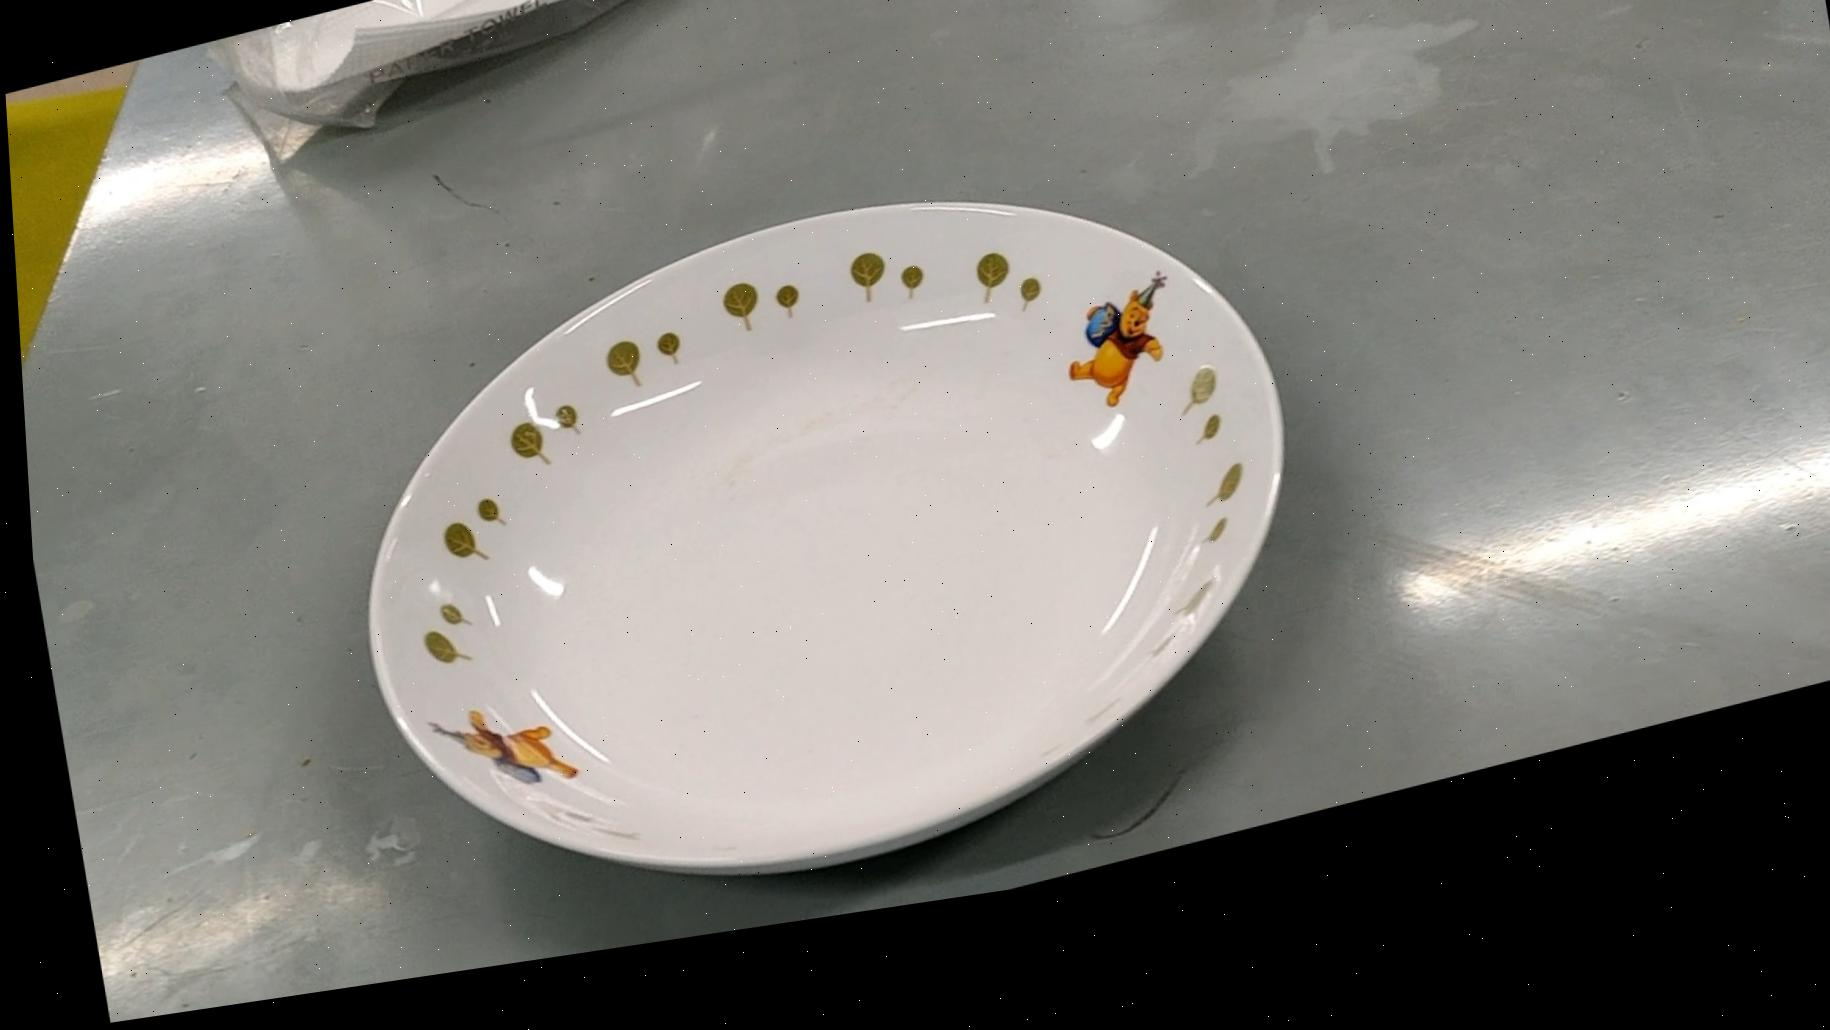plate: (315, 138, 1323, 992)
